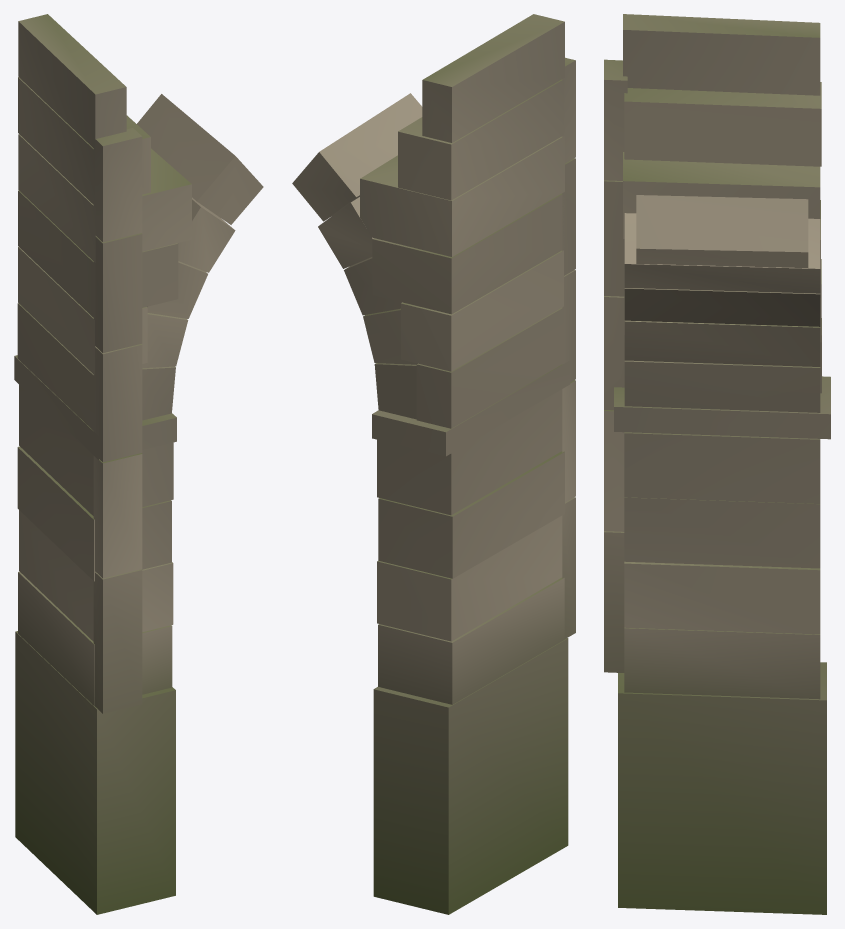
File: arena_outer_broken_mid.glb
The picture shows the model from 3 angles, left to right: view 1: azimuth 30°, elevation 25°; view 2: azimuth 150°, elevation 25°; view 3: azimuth 270°, elevation 25°; orthographic projection. The views are drawn at different scales.
Parts seen in each view (by area): view 1: arena_outer_broken_mid; view 2: arena_outer_broken_mid; view 3: arena_outer_broken_mid.
Boxes of the visible parts, <box> form: arena_outer_broken_mid: <box>14,14,263,914</box>; arena_outer_broken_mid: <box>292,14,575,914</box>; arena_outer_broken_mid: <box>604,14,830,914</box>.
Size of the model in its own units: 5.6 by 23.89 by 5.75.
